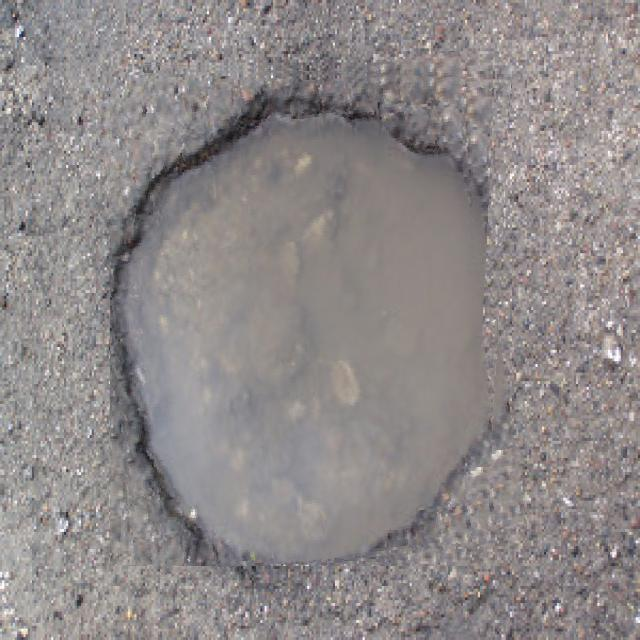Pothole: (110, 62, 511, 566)
